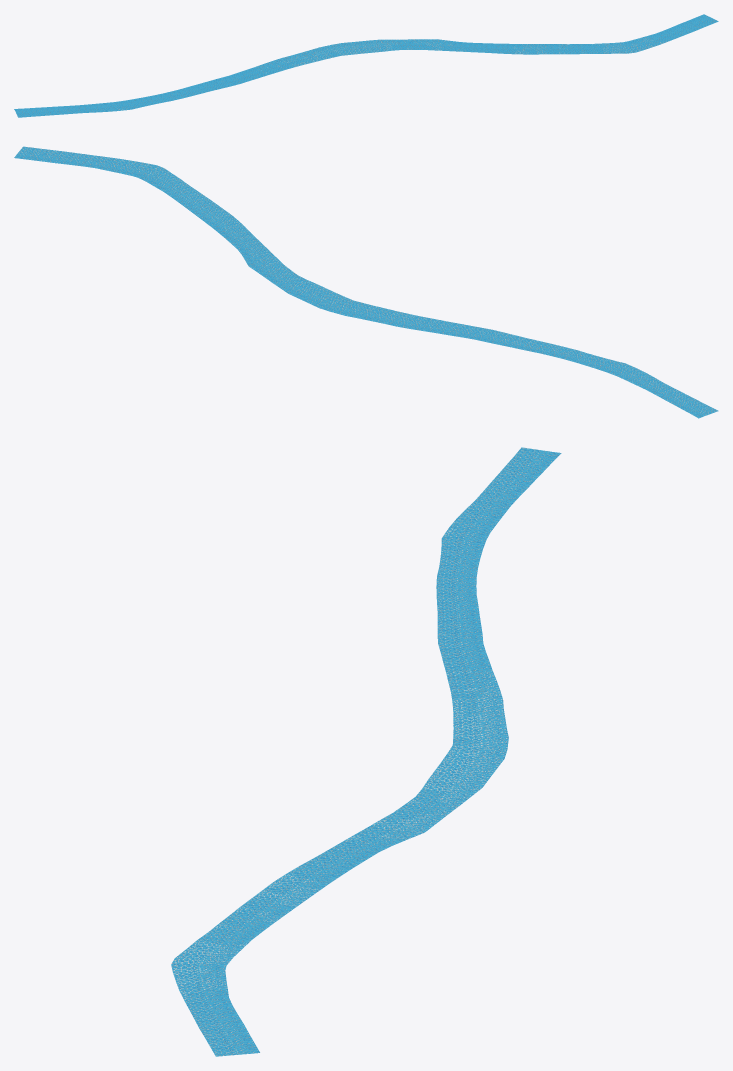
3 views of the same model, one above another, from view 1: azimuth 30°, elevation 25°; view 2: azimuth 150°, elevation 25°; view 3: azimuth 270°, elevation 25° (orthographic). The views are drawn at different scales.
Visible parts, largest first — view 1: River_Mesh.003, River_Mesh_Upper.003; view 2: River_Mesh.003, River_Mesh_Upper.003; view 3: River_Mesh.003, River_Mesh_Upper.003.
Part boxes in pixels (bbox=[...]): River_Mesh.003: bbox=[14, 14, 718, 117]; River_Mesh_Upper.003: bbox=[18, 16, 716, 116]; River_Mesh.003: bbox=[14, 146, 718, 418]; River_Mesh_Upper.003: bbox=[16, 147, 716, 416]; River_Mesh.003: bbox=[171, 447, 561, 1056]; River_Mesh_Upper.003: bbox=[171, 448, 560, 1055].
Size of the model in its own units: 569 by 0.0638 by 154.
2 materials, 2 textured.
